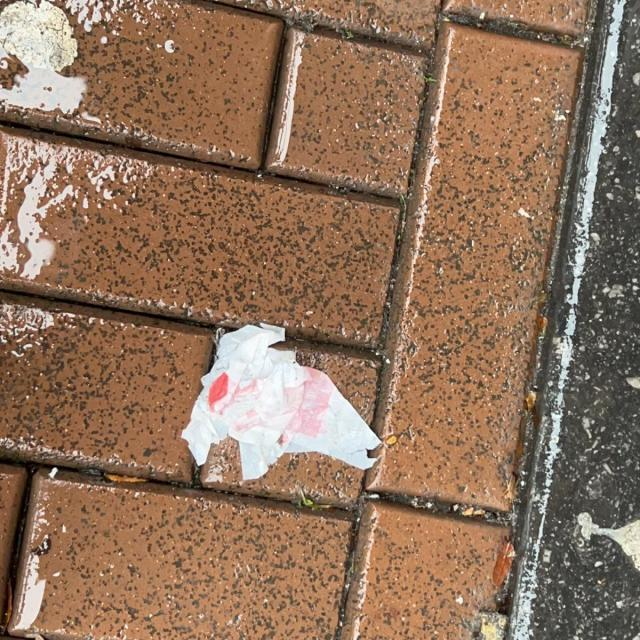Paper: (169, 322, 382, 476)
